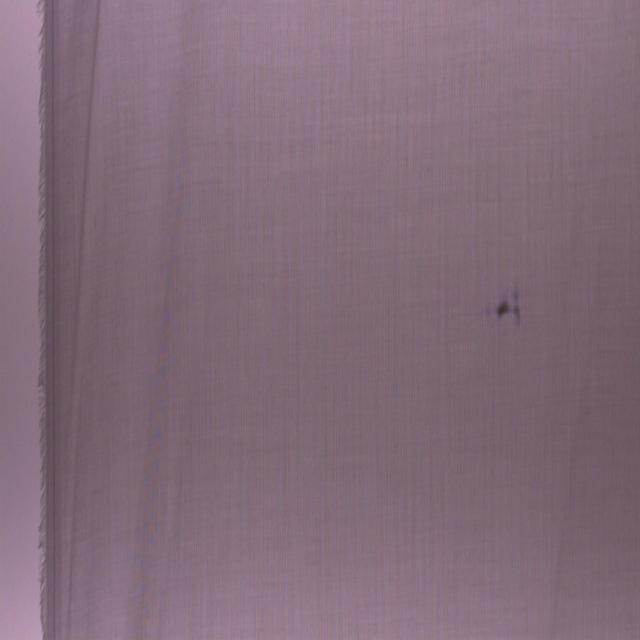dirty: (494, 289, 522, 325)
